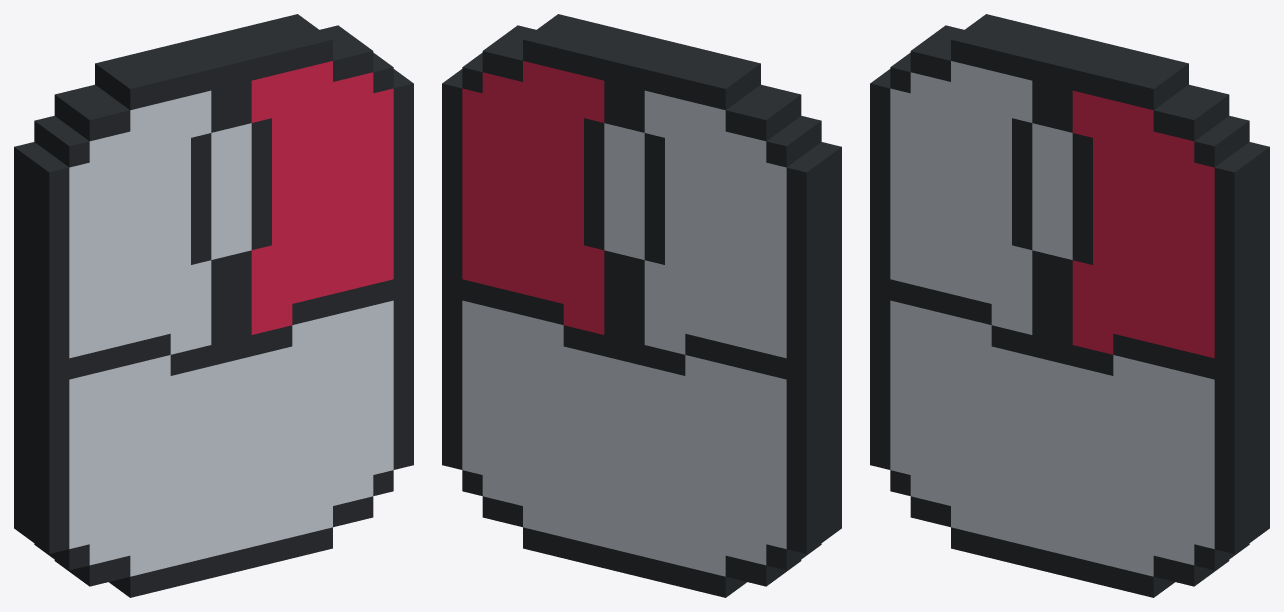
The model's file is FinalClicSouris.fbx.
The picture shows the model from 3 angles, left to right: view 1: azimuth 30°, elevation 25°; view 2: azimuth 150°, elevation 25°; view 3: azimuth 330°, elevation 25°; orthographic projection.
Visible parts, largest first — view 1: generated; view 2: generated; view 3: generated.
Boxes of the visible parts, <box> form: generated: <box>14,14,413,597</box>; generated: <box>442,14,841,597</box>; generated: <box>870,14,1269,597</box>.
Size of the model in its own units: 180 by 240 by 30.
